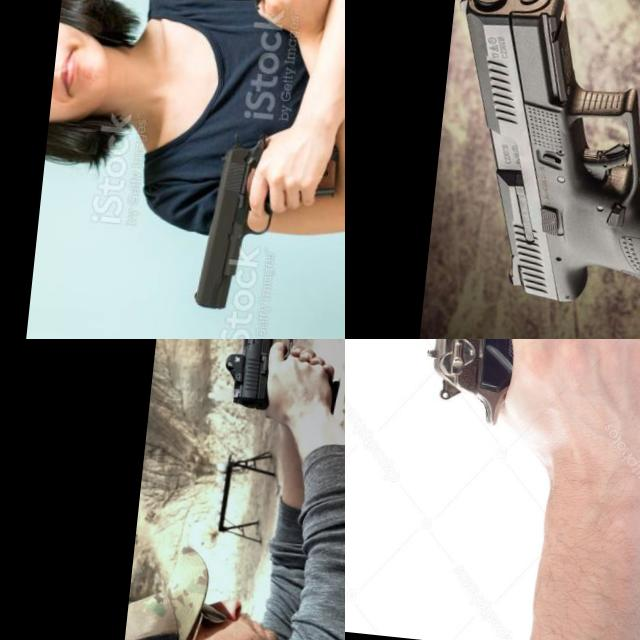handgun: (426, 0, 640, 327), (403, 339, 585, 530), (188, 129, 282, 317), (220, 339, 299, 411)
